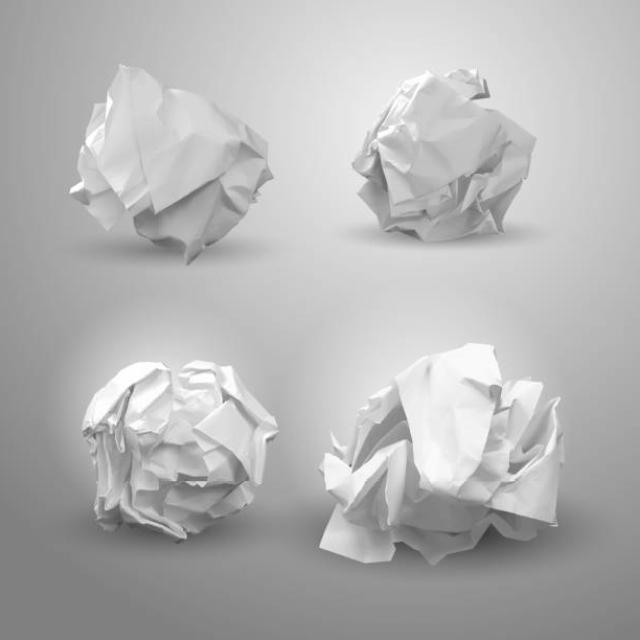paper: (286, 311, 588, 597), (64, 31, 302, 274), (28, 332, 280, 544), (329, 47, 560, 265)
